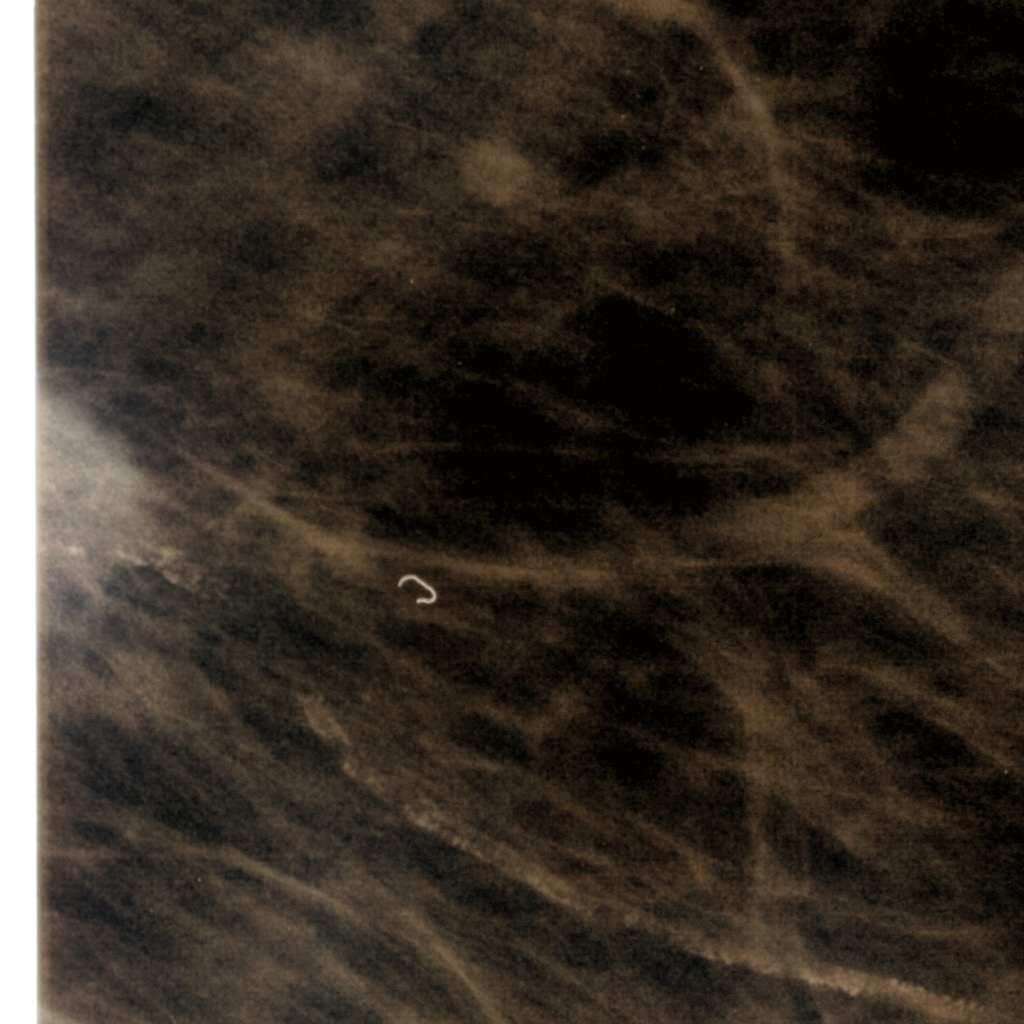tumor: (19, 406, 157, 618)
